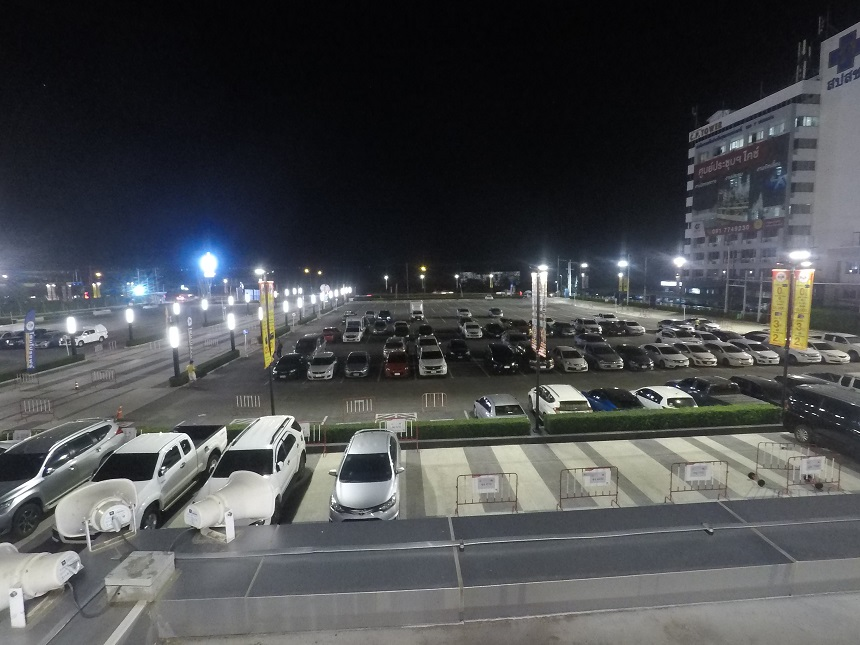busy: (335, 457, 401, 518), (224, 432, 302, 476), (120, 445, 197, 489), (18, 436, 88, 479), (804, 400, 859, 441), (477, 393, 523, 417), (544, 387, 587, 408), (703, 378, 737, 402), (379, 356, 411, 380), (749, 378, 785, 398), (644, 384, 679, 404), (485, 357, 520, 376), (418, 353, 445, 377), (596, 389, 631, 407), (273, 359, 301, 381), (781, 370, 814, 388), (829, 374, 860, 393), (722, 349, 753, 367), (343, 357, 368, 379), (792, 347, 821, 365), (562, 355, 590, 373), (308, 361, 335, 378), (596, 354, 624, 369), (824, 348, 847, 365), (660, 352, 686, 367), (532, 351, 553, 369), (694, 352, 716, 367), (630, 357, 655, 369), (836, 330, 857, 344), (758, 353, 779, 365)
